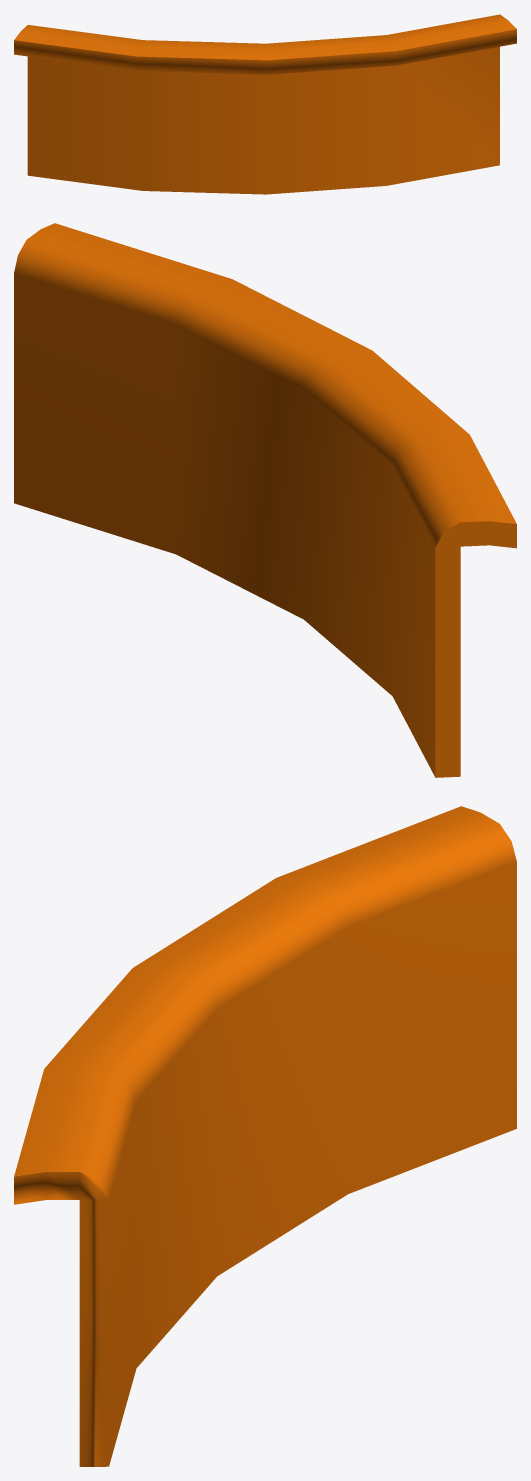
File: Plastic_Pipe_F_Left.fbx
The picture shows the model from 3 angles, top to bottom: view 1: azimuth 30°, elevation 25°; view 2: azimuth 150°, elevation 25°; view 3: azimuth 270°, elevation 25°; orthographic projection. The views are drawn at different scales.
Visible parts, largest first — view 1: Plastic_Pipe_F_Left; view 2: Plastic_Pipe_F_Left; view 3: Plastic_Pipe_F_Left.
Part boxes in pixels (<box>): Plastic_Pipe_F_Left: <box>14,14,516,194</box>; Plastic_Pipe_F_Left: <box>14,223,516,777</box>; Plastic_Pipe_F_Left: <box>14,806,516,1466</box>.
Size of the model in its own units: 6.65 by 2.47 by 3.81.
